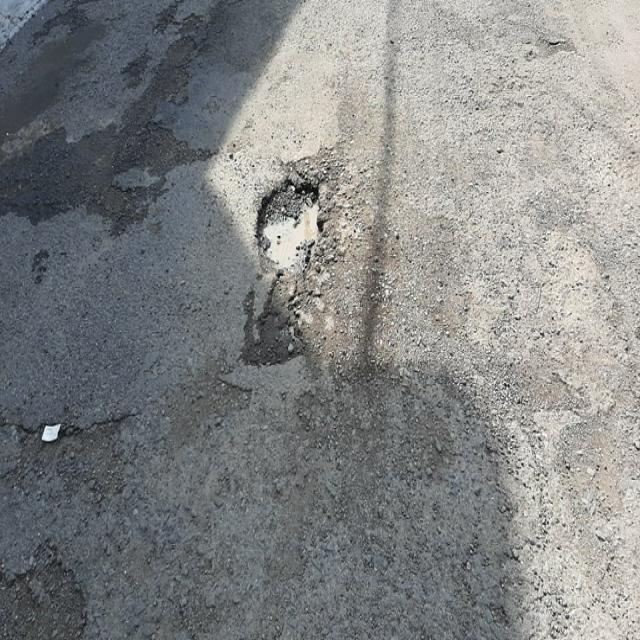Pothole: (196, 136, 357, 467), (1, 345, 146, 635)
